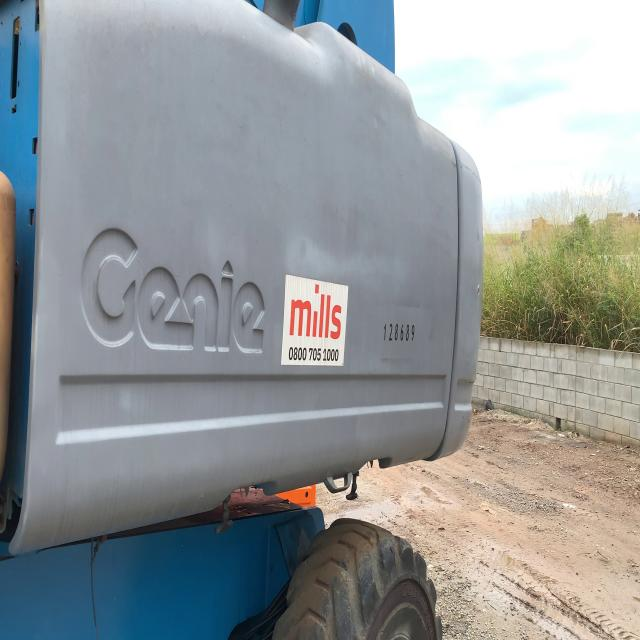Adesivos: (280, 273, 350, 369)
